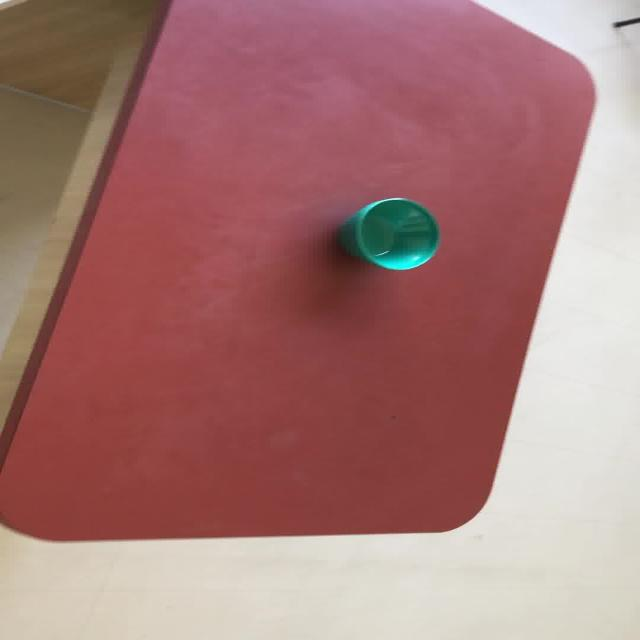bowl: (1, 0, 598, 542), (338, 197, 439, 270)
